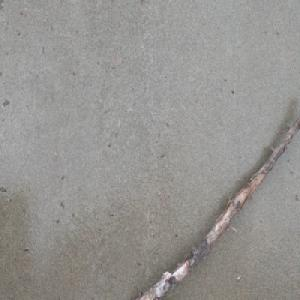Wood: (134, 111, 300, 300)
